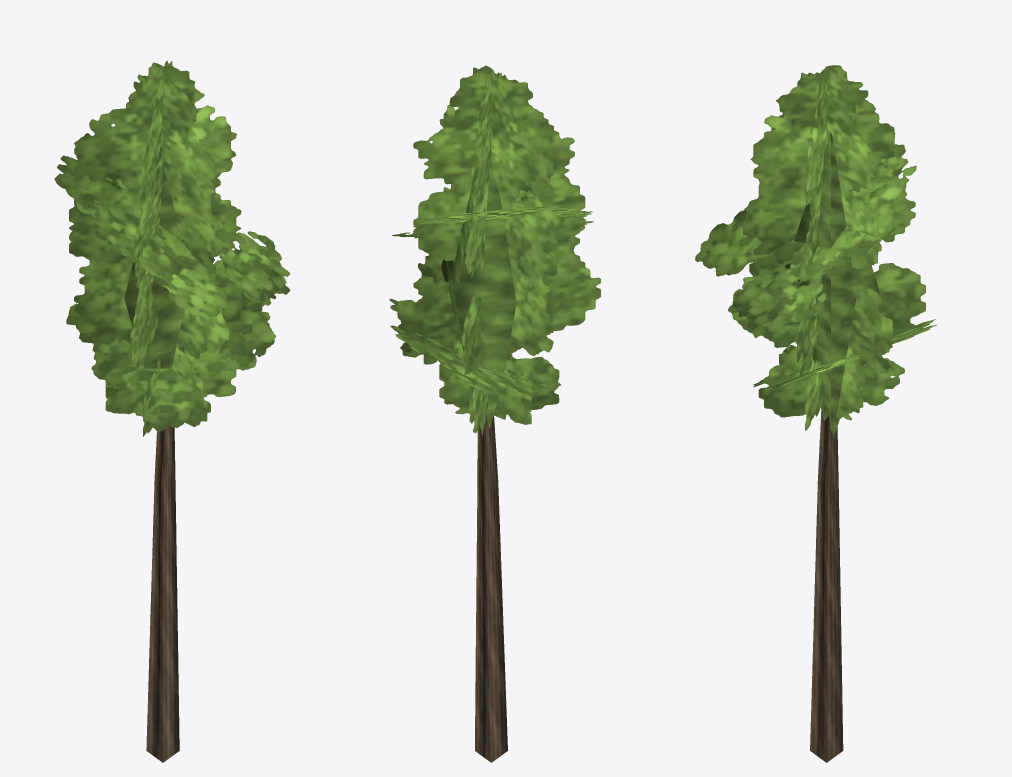
The model's file is tree-broadleaf-2.glb.
3 views of the same model, side by side, from view 1: azimuth 30°, elevation 25°; view 2: azimuth 150°, elevation 25°; view 3: azimuth 270°, elevation 25° (orthographic).
Parts seen in each view (by area): view 1: tree-broadleaf-2; view 2: tree-broadleaf-2; view 3: tree-broadleaf-2.
Boxes of the visible parts, x1,y1,x2,y2 form: tree-broadleaf-2: (54,60,290,762); tree-broadleaf-2: (389,65,600,762); tree-broadleaf-2: (695,65,936,762).
Bounding box in the file's own units: 0.4678 × 1.08 × 0.4809.
1 material, 1 textured.
